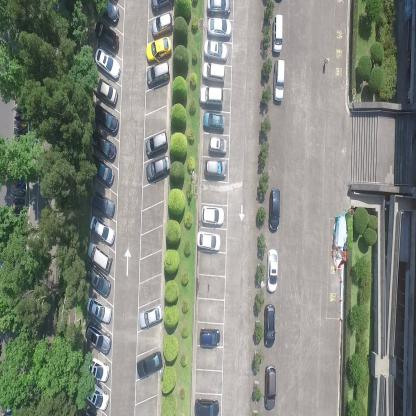car: (86, 152, 115, 188), (84, 262, 110, 300), (91, 102, 119, 137), (93, 45, 121, 80), (88, 213, 116, 246), (88, 187, 116, 220), (91, 73, 118, 107), (84, 323, 112, 354), (86, 241, 112, 274), (90, 129, 116, 162), (94, 18, 119, 52), (146, 35, 172, 66), (137, 350, 163, 380), (83, 380, 109, 410), (86, 295, 112, 324), (86, 352, 110, 383), (146, 154, 171, 183), (145, 61, 169, 89), (146, 130, 169, 158), (265, 249, 279, 294), (139, 303, 163, 329), (93, 0, 120, 23), (272, 58, 285, 104), (151, 12, 173, 39), (207, 16, 232, 39), (201, 61, 226, 84), (264, 365, 276, 412), (268, 188, 280, 234), (204, 39, 228, 62), (196, 230, 221, 252), (200, 85, 223, 108), (264, 304, 276, 348), (200, 204, 224, 226), (272, 12, 283, 56), (204, 158, 226, 180), (198, 326, 220, 348), (201, 111, 224, 132), (194, 396, 219, 415), (206, 0, 232, 17), (207, 136, 228, 155), (151, 0, 174, 17)
